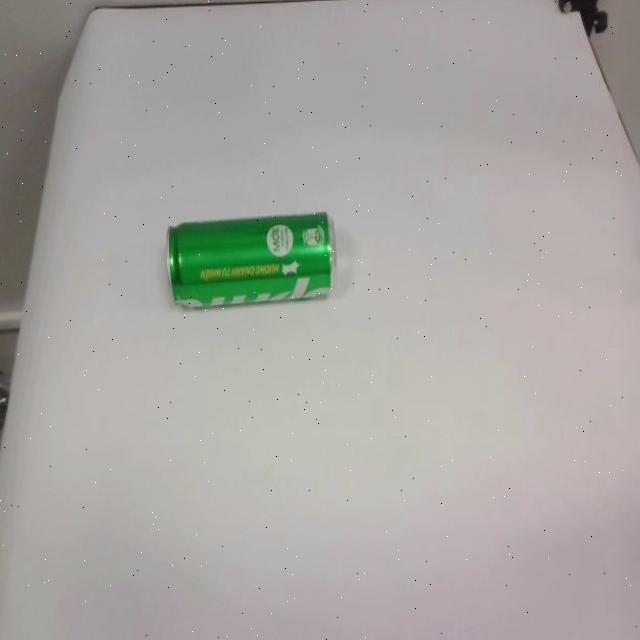debris: (166, 210, 337, 312)
